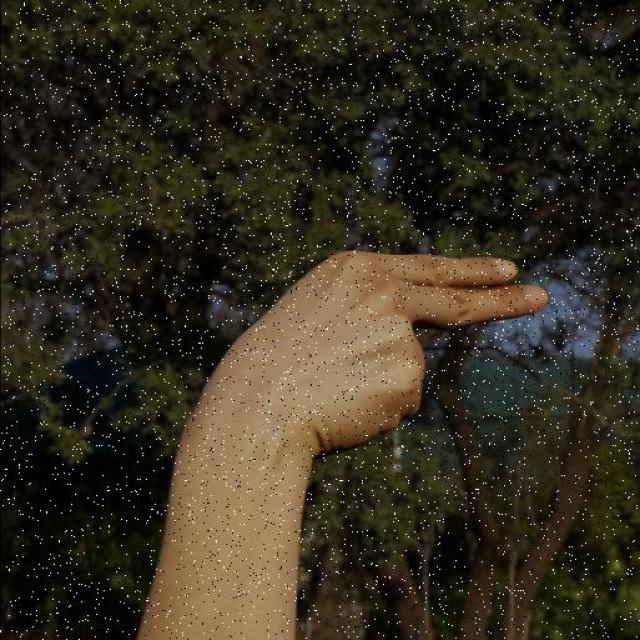H: (203, 240, 553, 460)
